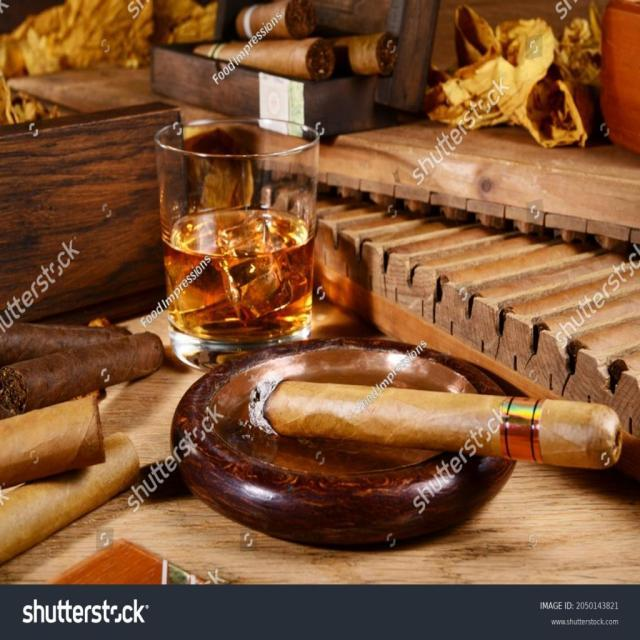smoking: (0, 323, 164, 566), (248, 375, 626, 472), (192, 0, 402, 94)
